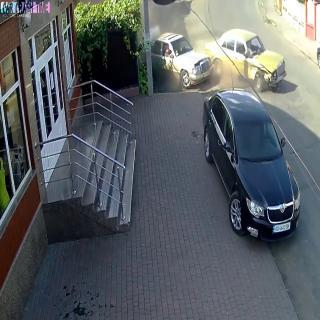Vehicle-Crash_Detected: (162, 29, 237, 83)
